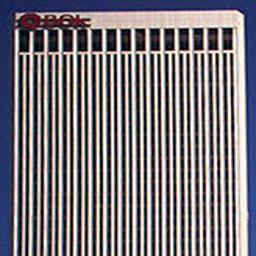building: (14, 12, 250, 255)
